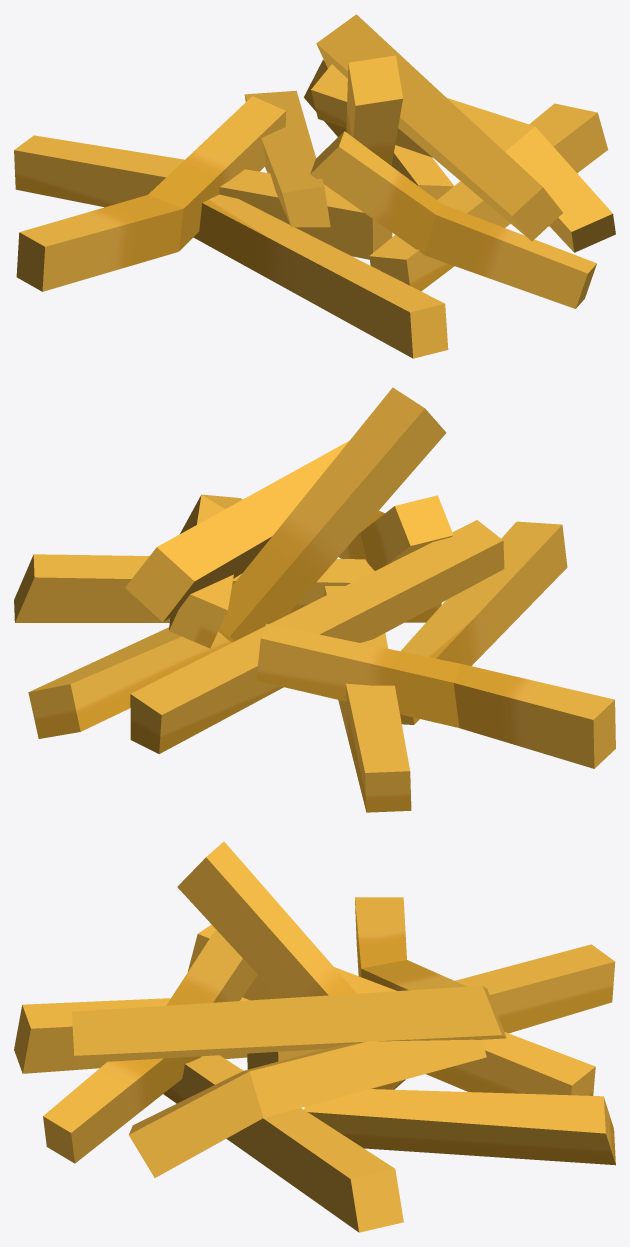
The model's file is SM_Prop_Food_Fries_Cooked_01.obj.
3 views of the same model, one above another, from view 1: azimuth 30°, elevation 25°; view 2: azimuth 150°, elevation 25°; view 3: azimuth 270°, elevation 25° (orthographic). The views are drawn at different scales.
Parts seen in each view (by area): view 1: SM_Prop_Food_Fries_Cooked_01_0; view 2: SM_Prop_Food_Fries_Cooked_01_0; view 3: SM_Prop_Food_Fries_Cooked_01_0.
Boxes of the visible parts, bbox=[...] form: SM_Prop_Food_Fries_Cooked_01_0: bbox=[14, 14, 615, 358]; SM_Prop_Food_Fries_Cooked_01_0: bbox=[14, 387, 615, 812]; SM_Prop_Food_Fries_Cooked_01_0: bbox=[14, 841, 615, 1232].
Bounding box in the file's own units: 0.2988 × 0.1147 × 0.2593.
1 material, 1 textured.
